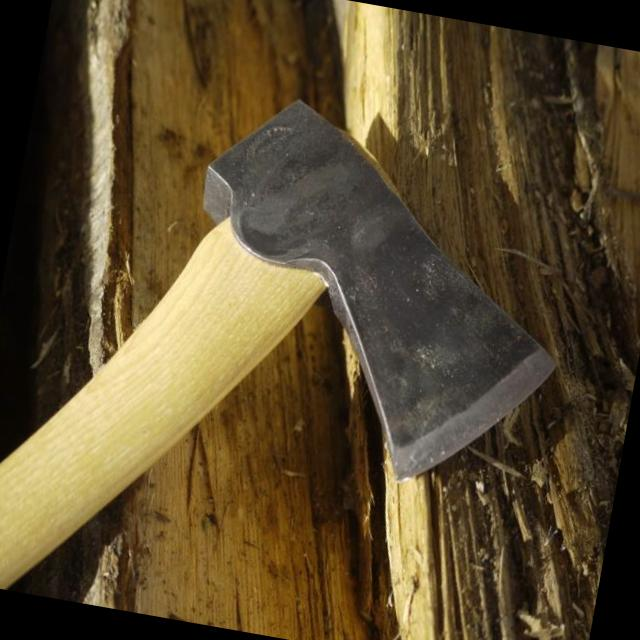Axe: (0, 100, 557, 590)
